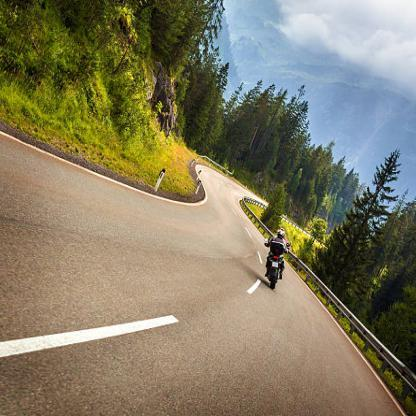Motorcycle: (260, 228, 289, 300)
